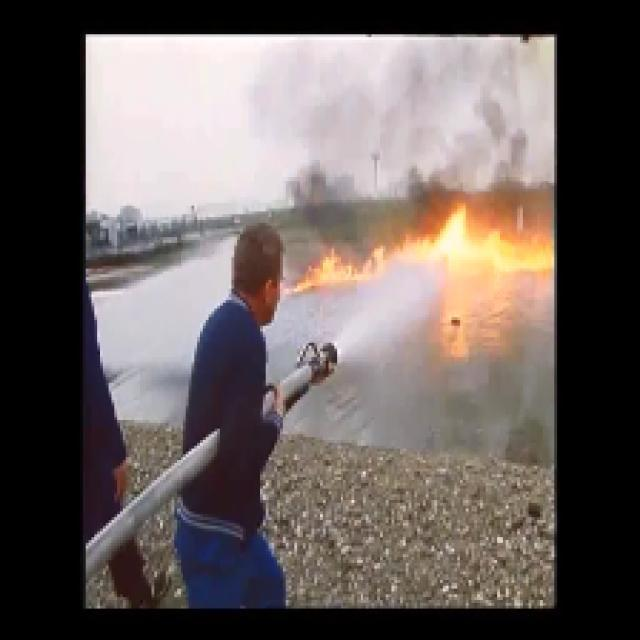Fire: (314, 222, 562, 284)
